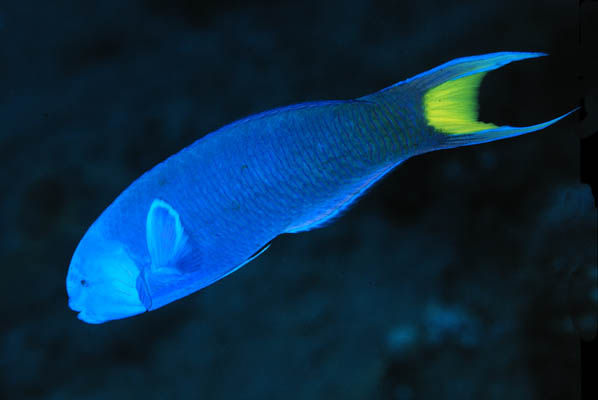fish: (64, 49, 576, 324)
